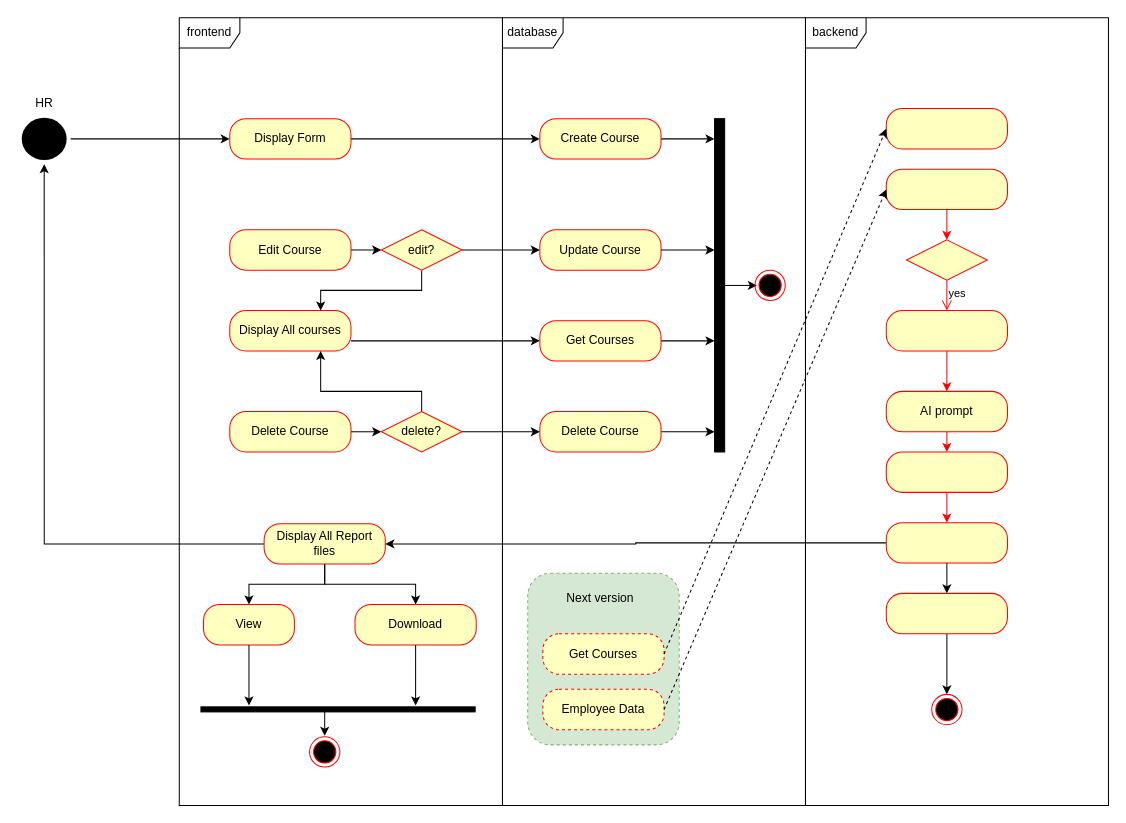
Some shapes in this 1126 by 823 pixel diagram are drawn without their labels. Each missing label, with the centre of its shape:
"filter" belongs at pixel 946 259.
"Generate PDF" belongs at pixel 946 471.
"Read Employee data" belongs at pixel 946 189.
"Read Training data" belongs at pixel 946 128.
"Save Employee data" belongs at pixel 946 330.
"Save PDF" belongs at pixel 946 542.
"Send email to HR" belongs at pixel 946 613.
